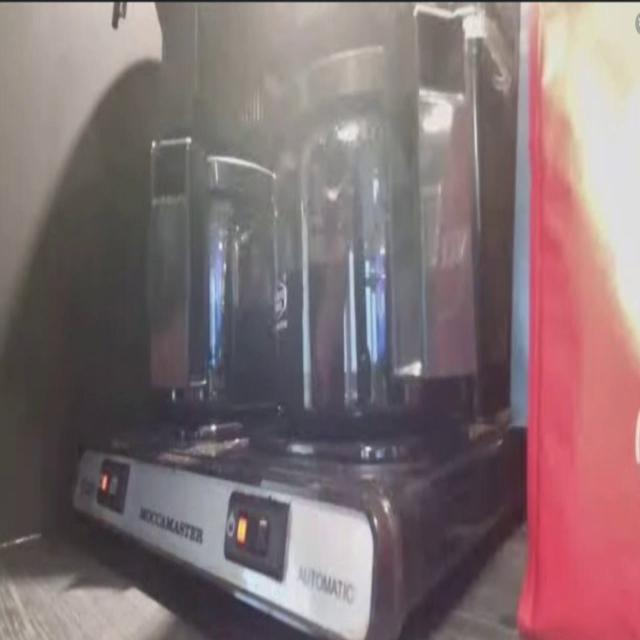coffee: (256, 27, 499, 440), (139, 128, 280, 428)
